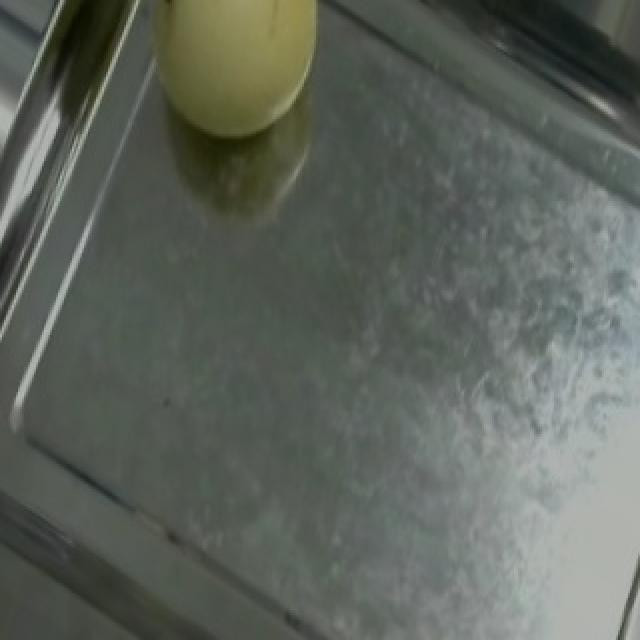Fruit: (106, 0, 354, 176)
